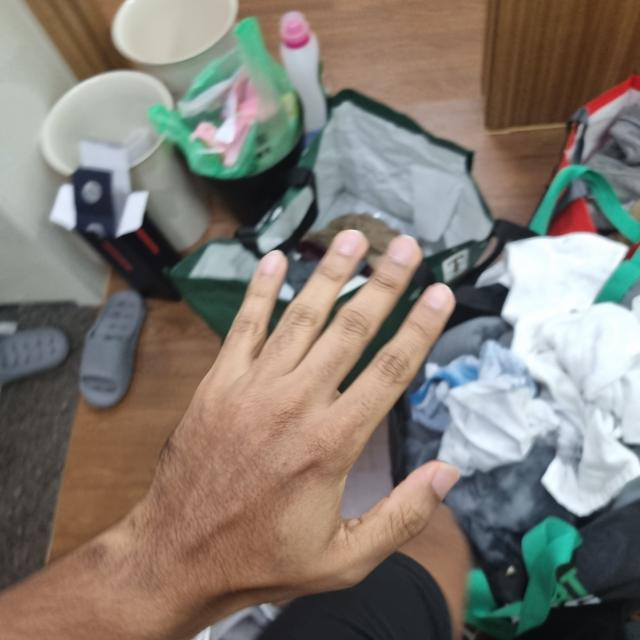Paper: (131, 229, 462, 607)
